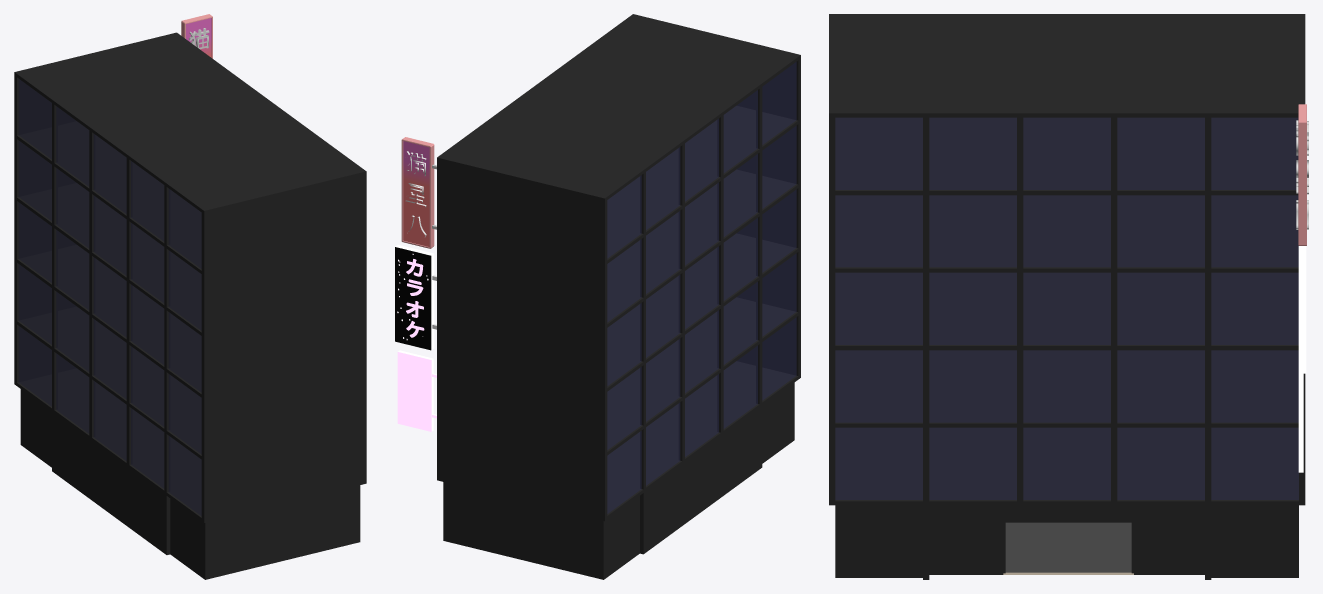
The model's file is black.glb.
The picture shows the model from 3 angles, left to right: view 1: azimuth 30°, elevation 25°; view 2: azimuth 150°, elevation 25°; view 3: azimuth 270°, elevation 25°; orthographic projection. The views are drawn at different scales.
Visible parts, largest first — view 1: Plane.011; view 2: Plane.011; view 3: Plane.011.
Boxes of the visible parts, x1,y1,x2,y2 form: Plane.011: (14,14,366,579); Plane.011: (395,14,800,579); Plane.011: (829,14,1308,579).
Bounding box in the file's own units: 10.46 × 18.83 × 17.1.
7 materials, 3 textured.
